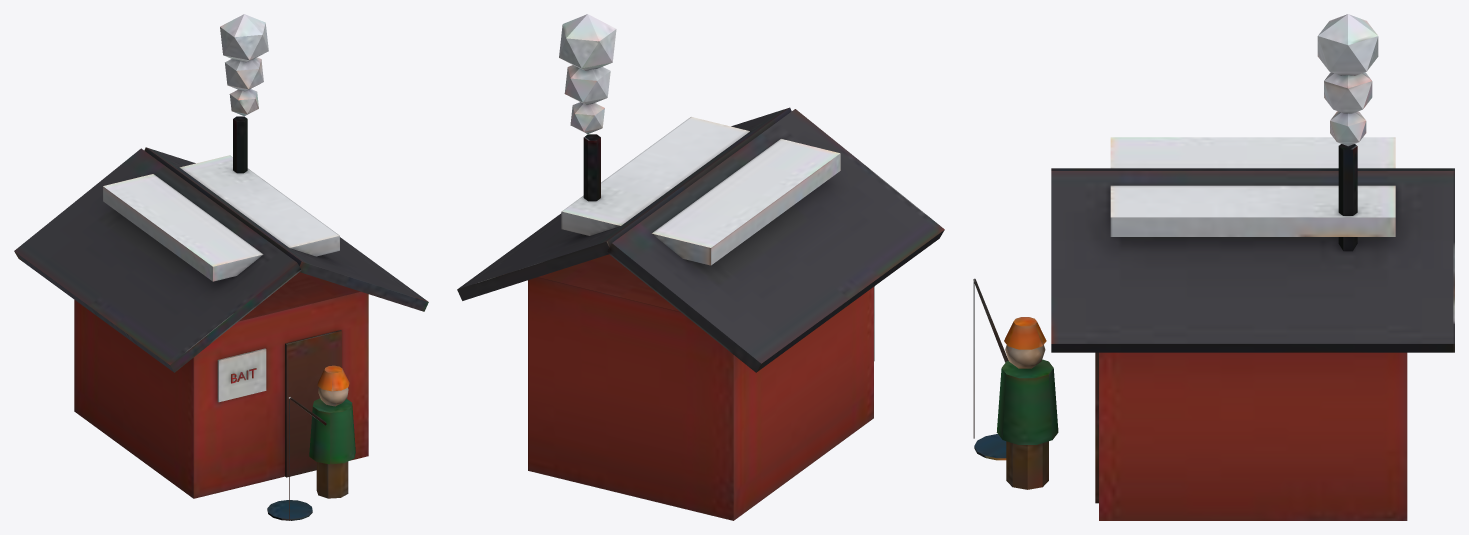
The model's file is caseta_pesca.glb.
The picture shows the model from 3 angles, left to right: view 1: azimuth 30°, elevation 25°; view 2: azimuth 150°, elevation 25°; view 3: azimuth 270°, elevation 25°; orthographic projection. The views are drawn at different scales.
Parts seen in each view (by area): view 1: caseta_pesca; view 2: caseta_pesca; view 3: caseta_pesca.
Boxes of the visible parts, box(x1,y1,x2,y2) form: caseta_pesca: box(14, 14, 428, 520); caseta_pesca: box(457, 14, 944, 520); caseta_pesca: box(973, 14, 1454, 520).
Bounding box in the file's own units: 3.26 × 4.55 × 4.06.
1 material, 1 textured.
